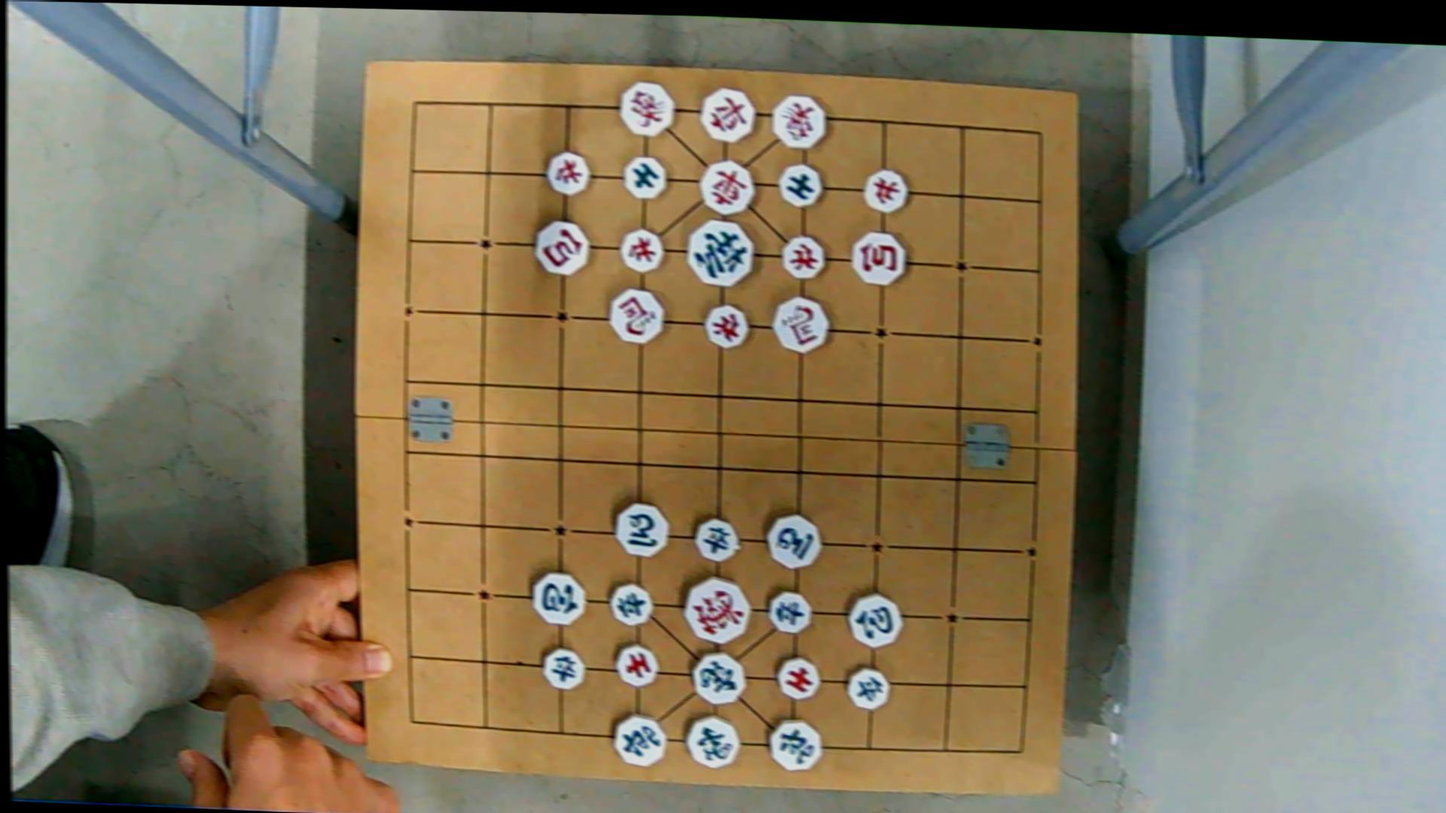cha_green: (767, 719, 829, 768), (611, 714, 671, 763)
cha_red: (697, 161, 761, 212), (697, 88, 760, 139)
jol_green: (694, 519, 744, 560), (541, 649, 590, 689), (608, 583, 657, 623), (767, 592, 814, 633), (847, 668, 895, 708)
jol_red: (701, 303, 752, 344), (543, 152, 595, 192), (779, 236, 831, 276), (859, 172, 910, 211), (622, 224, 662, 272)
ma_green: (763, 514, 825, 565), (614, 505, 670, 556)
ma_red: (772, 296, 829, 352), (606, 290, 667, 340)
po_green: (532, 572, 593, 623), (849, 594, 903, 649)
po_red: (529, 223, 592, 274), (845, 234, 905, 285)
sa_green: (777, 163, 824, 209), (620, 157, 671, 197)
sa_red: (615, 643, 664, 683), (777, 658, 826, 698)
sang_green: (684, 715, 743, 765), (690, 653, 749, 702)
sang_red: (770, 96, 834, 146), (615, 85, 677, 135)
wang_green: (685, 219, 758, 280)
wang_red: (683, 575, 752, 644)
